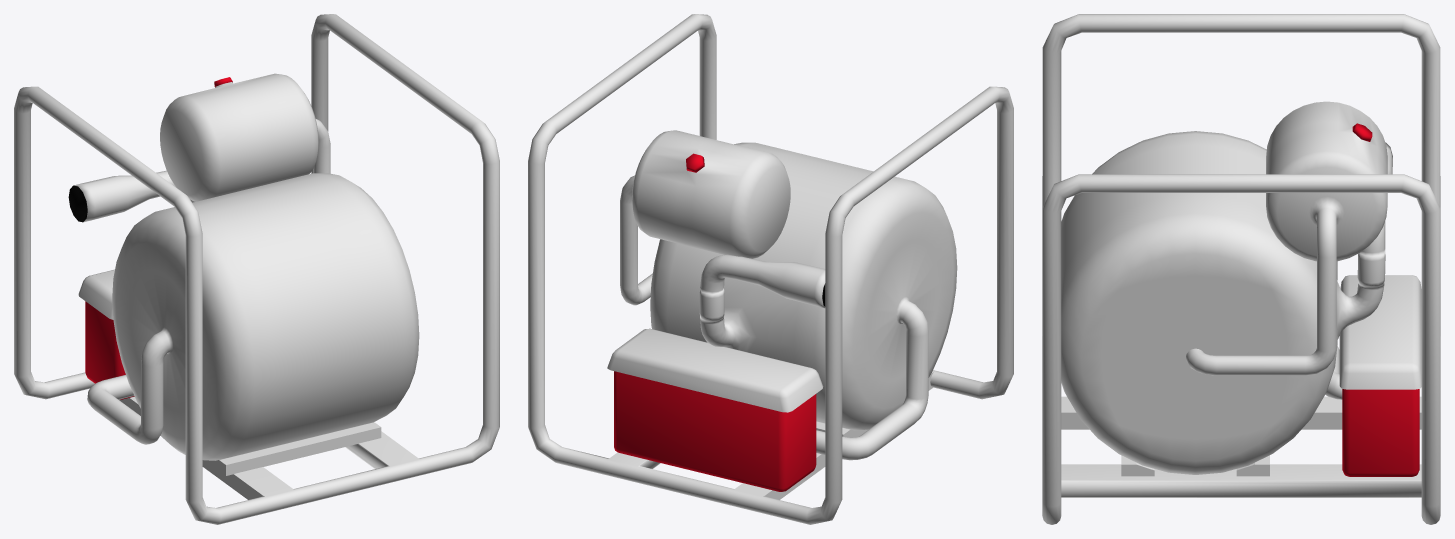
Rendered from generator.glb.
The picture shows the model from 3 angles, left to right: view 1: azimuth 30°, elevation 25°; view 2: azimuth 150°, elevation 25°; view 3: azimuth 270°, elevation 25°; orthographic projection. The views are drawn at different scales.
Parts seen in each view (by area): view 1: Cube.003; view 2: Cube.003; view 3: Cube.003.
Boxes of the visible parts, bbox=[...] form: Cube.003: bbox=[14, 14, 499, 524]; Cube.003: bbox=[528, 14, 1013, 524]; Cube.003: bbox=[1042, 14, 1440, 524].
Bounding box in the file's own units: 2.1 × 2.1 × 2.1.
